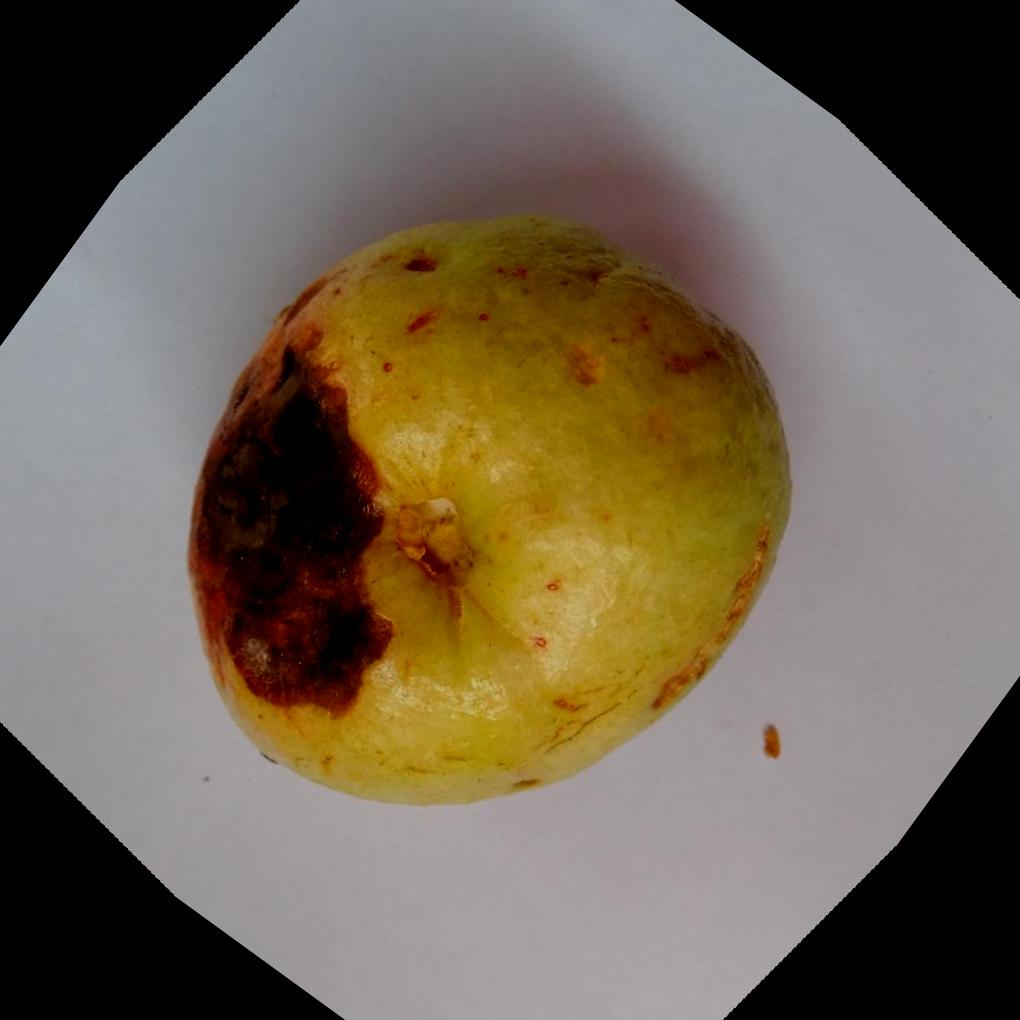FreshOrange: (187, 208, 796, 806)
